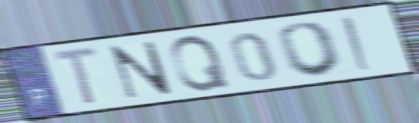0: (227, 30, 281, 83)
I: (338, 14, 376, 73)
N: (107, 39, 175, 101)
O: (275, 19, 348, 78)
Q: (168, 33, 232, 94)
T: (50, 44, 101, 109)
